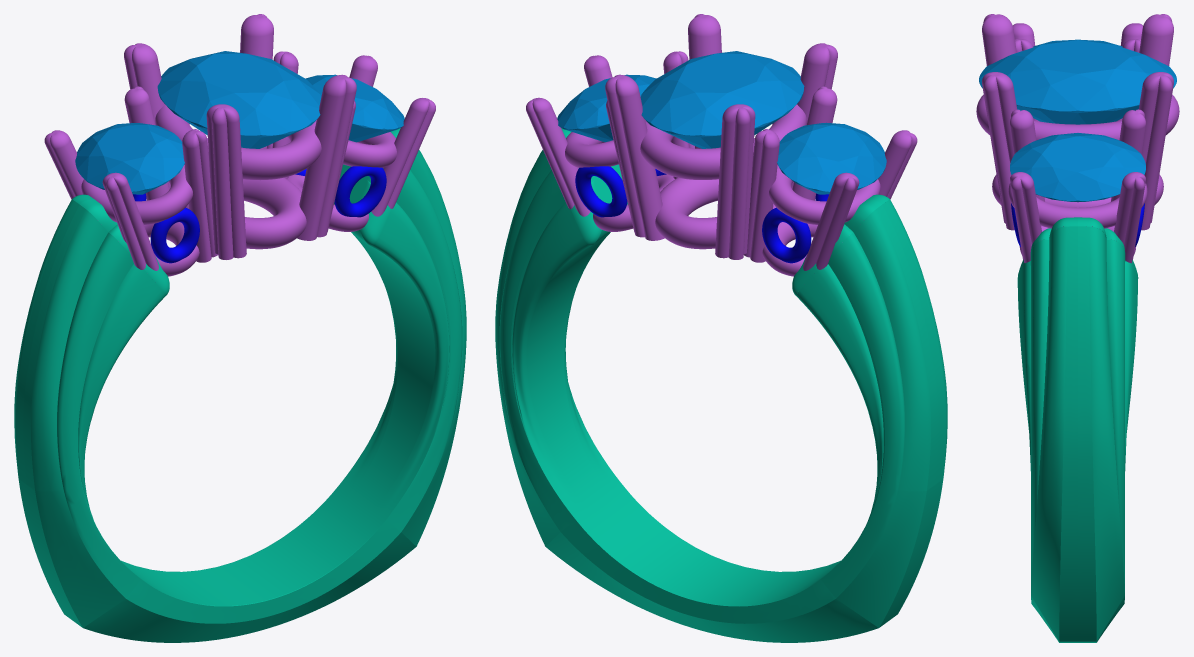
The picture shows the model from 3 angles, left to right: view 1: azimuth 30°, elevation 25°; view 2: azimuth 150°, elevation 25°; view 3: azimuth 270°, elevation 25°; orthographic projection.
Visible parts, largest first — view 1: 003.3dm, Head Prong (×10), Diamond_Oval (×3), Head Rail (×6); view 2: 003.3dm, Head Prong (×10), Diamond_Oval (×3), Head Rail (×6); view 3: 003.3dm, Diamond_Oval (×2), Head Prong (×10), Head Rail (×3).
Boxes of the visible parts, x1,y1,x2,y2 form: 003.3dm: [14, 128, 466, 642]; Head Prong (×10): [44, 14, 435, 270]; Diamond_Oval (×3): [75, 51, 404, 194]; Head Rail (×6): [81, 104, 396, 276]; 003.3dm: [495, 128, 947, 642]; Head Prong (×10): [526, 14, 917, 270]; Diamond_Oval (×3): [557, 51, 886, 194]; Head Rail (×6): [565, 104, 880, 276]; 003.3dm: [1011, 203, 1144, 642]; Diamond_Oval (×2): [979, 40, 1176, 202]; Head Prong (×10): [982, 14, 1173, 263]; Head Rail (×3): [976, 94, 1179, 228].
Size of the model in its own units: 2.43 by 3.02 by 0.9905.
